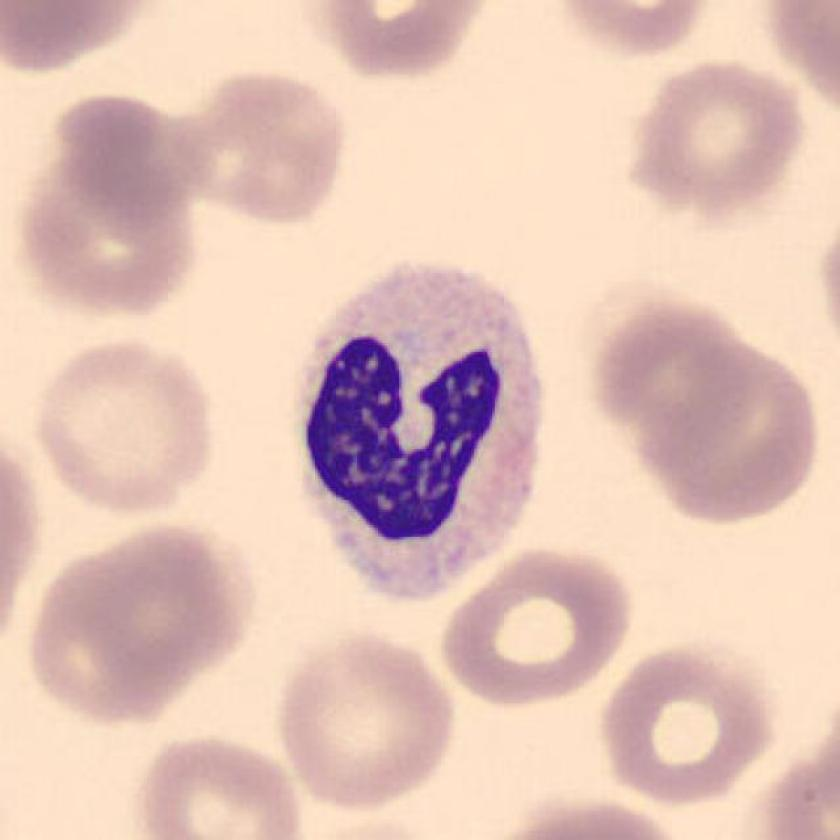neutrophil: (294, 265, 543, 599)
